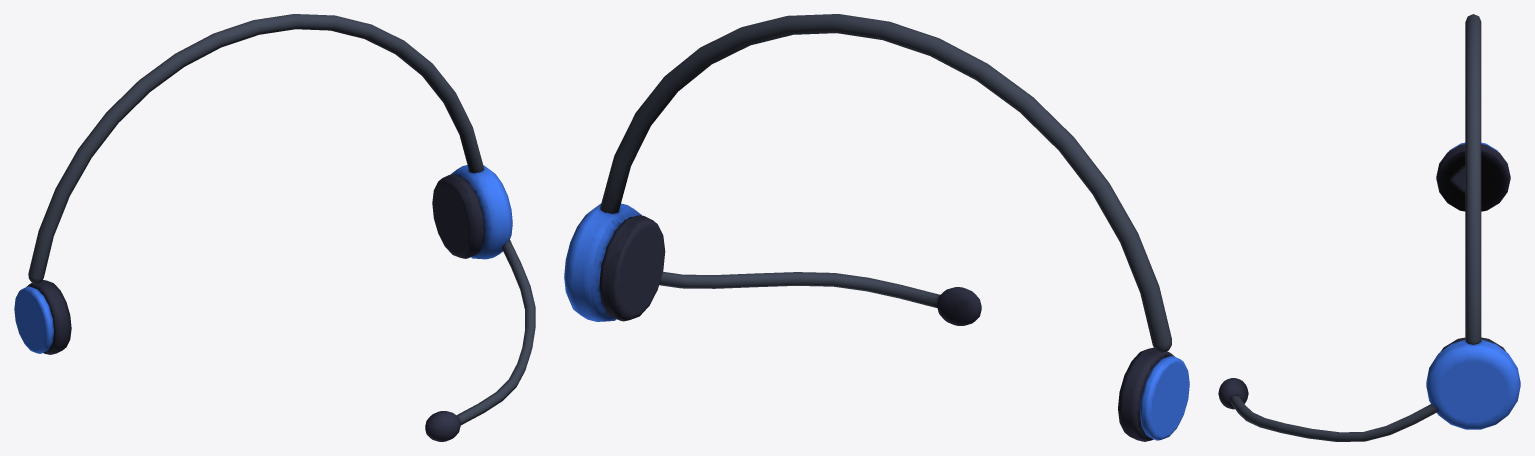
File: headset_mic.glb
3 views of the same model, side by side, from view 1: azimuth 30°, elevation 25°; view 2: azimuth 150°, elevation 25°; view 3: azimuth 270°, elevation 25° (orthographic). The views are drawn at different scales.
Visible parts, largest first — view 1: headset_mic; view 2: headset_mic; view 3: headset_mic.
Part boxes in pixels (x1=…): headset_mic: x1=14, y1=14, x2=535, y2=441; headset_mic: x1=564, y1=14, x2=1189, y2=441; headset_mic: x1=1218, y1=14, x2=1520, y2=441.
Size of the model in its own units: 0.6236 by 0.4443 by 0.3588.
4 materials, 4 textured.
